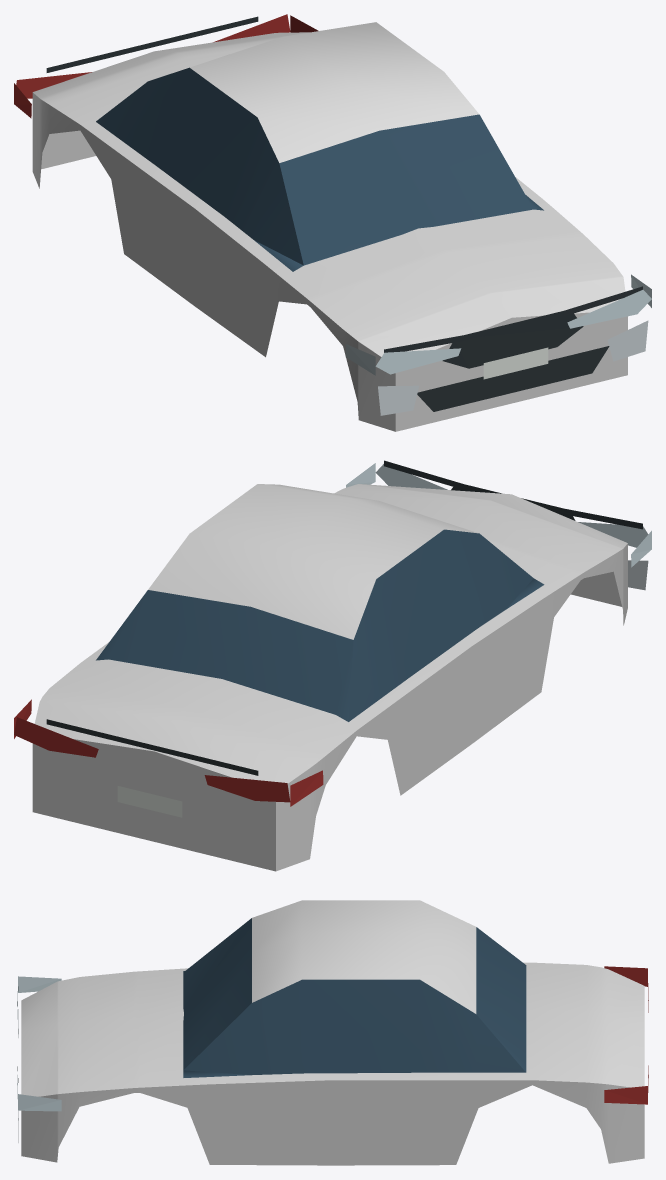
The model's file is veh_city-lod2.glb.
3 renders of one model, top to bottom at view 1: azimuth 30°, elevation 25°; view 2: azimuth 150°, elevation 25°; view 3: azimuth 270°, elevation 25°, orthographic. The views are drawn at different scales.
Visible parts, largest first — view 1: paint, glass, trim, head, tail, chrome, plate; view 2: paint, glass, tail, trim, head, plate; view 3: paint, glass, tail, head.
Part boxes in pixels (bbox=[...]): paint: bbox=[32, 22, 627, 431]; glass: bbox=[96, 67, 543, 271]; trim: bbox=[46, 16, 642, 411]; head: bbox=[345, 274, 651, 375]; tail: bbox=[14, 14, 318, 118]; chrome: bbox=[378, 320, 648, 415]; plate: bbox=[483, 347, 548, 379]; paint: bbox=[32, 484, 627, 871]; glass: bbox=[96, 529, 544, 721]; tail: bbox=[14, 699, 323, 806]; trim: bbox=[46, 460, 642, 775]; head: bbox=[346, 463, 651, 567]; plate: bbox=[117, 786, 182, 817]; paint: bbox=[21, 900, 644, 1165]; glass: bbox=[183, 918, 526, 1077]; tail: bbox=[604, 966, 648, 1104]; head: bbox=[17, 976, 61, 1111].
Bounding box in the file's own units: 1.31 × 0.855 × 2.84.
